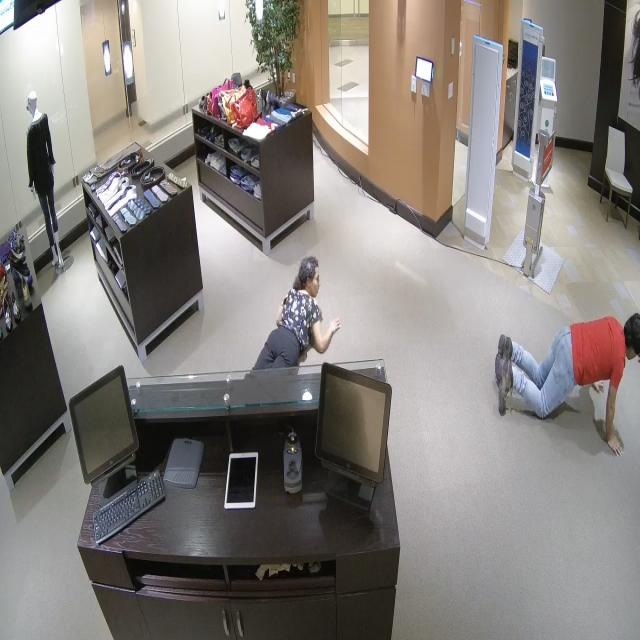fall: (485, 310, 640, 458), (225, 251, 351, 394)
